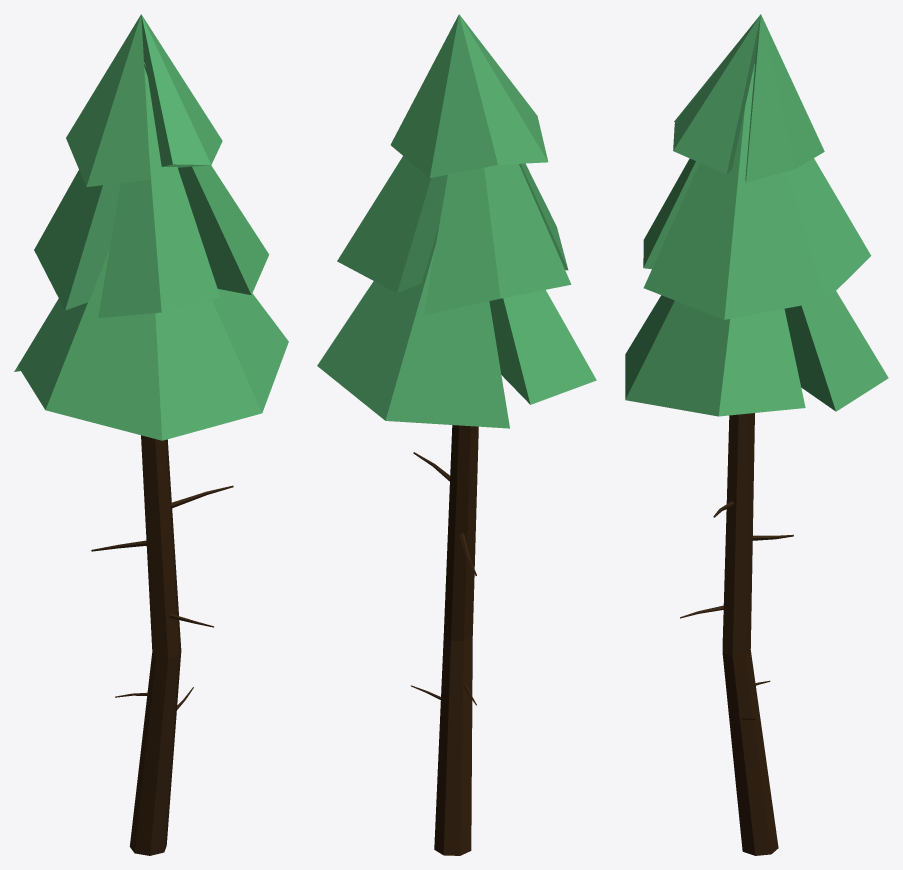
The model's file is iglak_3.fbx.
The picture shows the model from 3 angles, left to right: view 1: azimuth 30°, elevation 25°; view 2: azimuth 150°, elevation 25°; view 3: azimuth 270°, elevation 25°; orthographic projection.
Visible parts, largest first — view 1: Drzewo 3_LOD0; view 2: Drzewo 3_LOD0; view 3: Drzewo 3_LOD0.
Boxes of the visible parts, x1,y1,x2,y2 form: Drzewo 3_LOD0: (14,14,288,855); Drzewo 3_LOD0: (317,14,596,855); Drzewo 3_LOD0: (625,14,888,855).
Size of what is drawn, in the model's own units: 2137 by 7017 by 2018.
